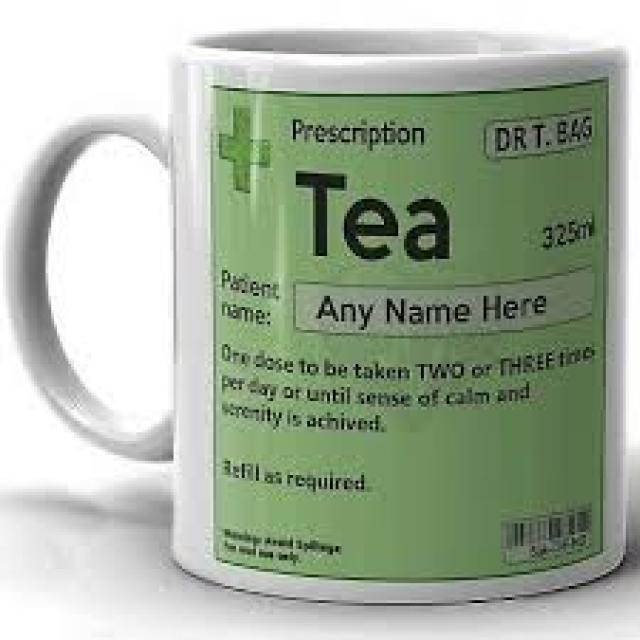taza: (1, 8, 629, 619)
